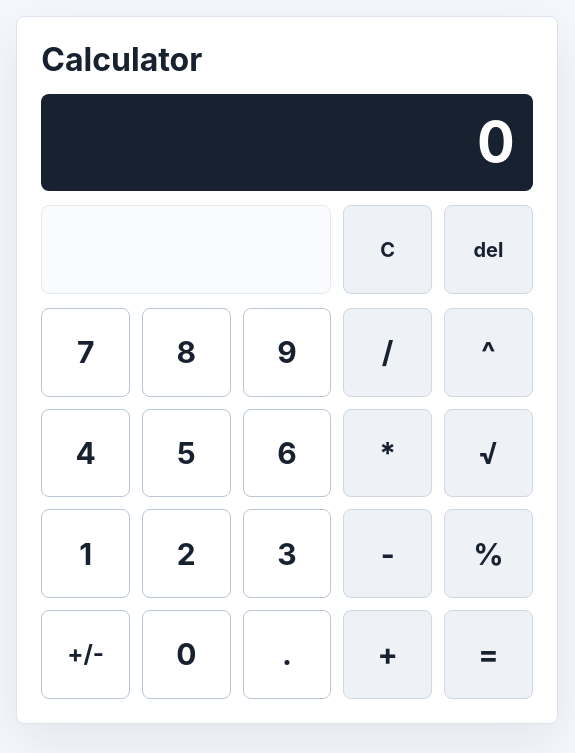
Scenario: Calculator › shows current input when buttons are pressed
Click the button "7".
click(86, 352)  # box [41,308,130,397]
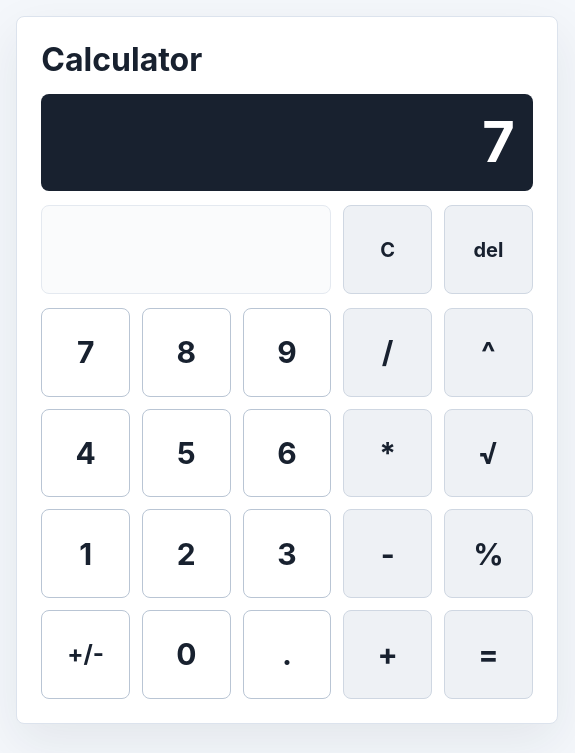
Click the button "+".
click(388, 654)  # box [343,610,432,699]
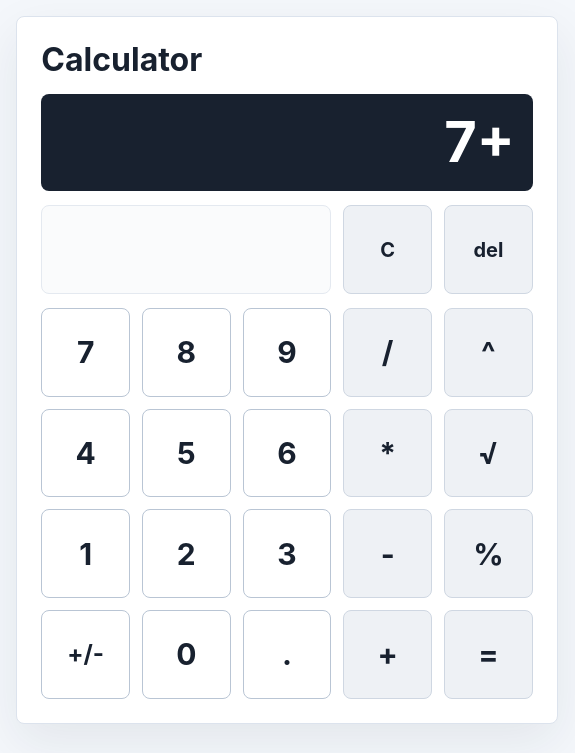
Click the button "8".
click(186, 352)  # box [142,308,231,397]
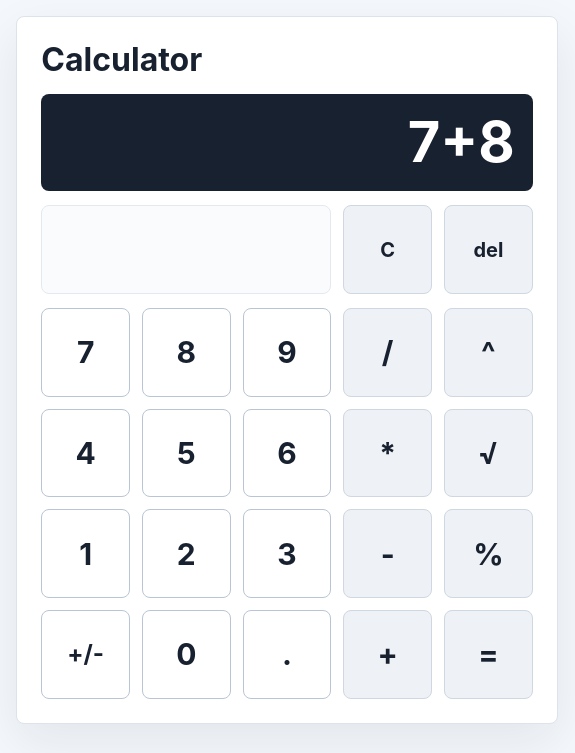
Result: the message named "current input" reads "7+8" at [408,108,515,176]
